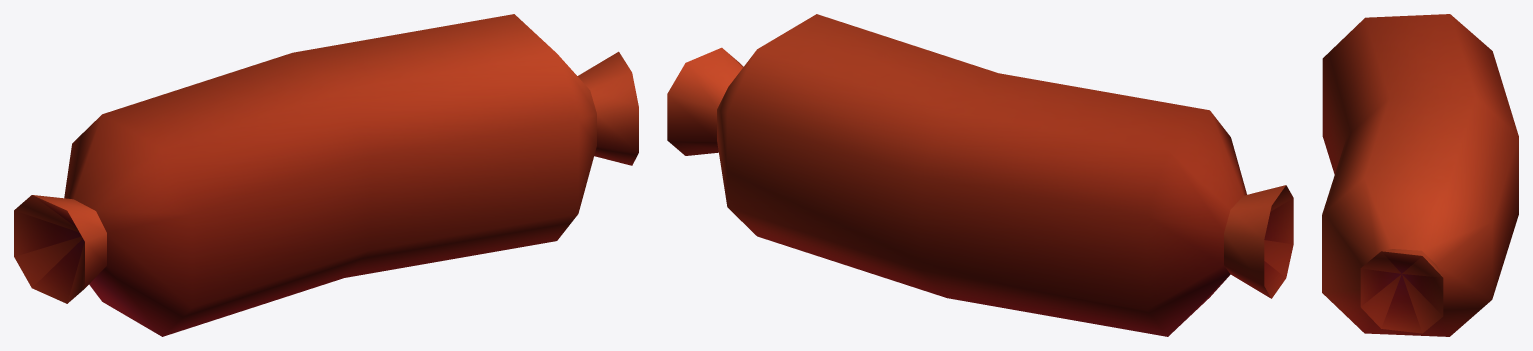
The model's file is sausage.fbx.
The picture shows the model from 3 angles, left to right: view 1: azimuth 30°, elevation 25°; view 2: azimuth 150°, elevation 25°; view 3: azimuth 270°, elevation 25°; orthographic projection. The views are drawn at different scales.
Visible parts, largest first — view 1: sausage; view 2: sausage; view 3: sausage.
Boxes of the visible parts, x1,y1,x2,y2 form: sausage: (14,14,638,336); sausage: (667,14,1293,336); sausage: (1322,14,1518,336).
Size of the model in its own units: 48.01 by 14.38 by 16.46.
